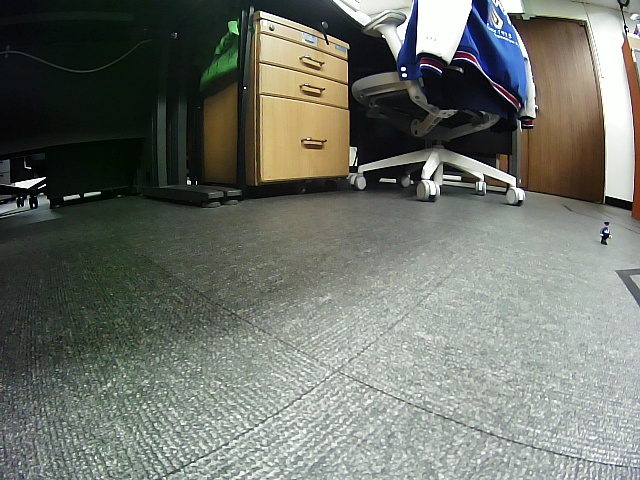person: (599, 220, 612, 245)
